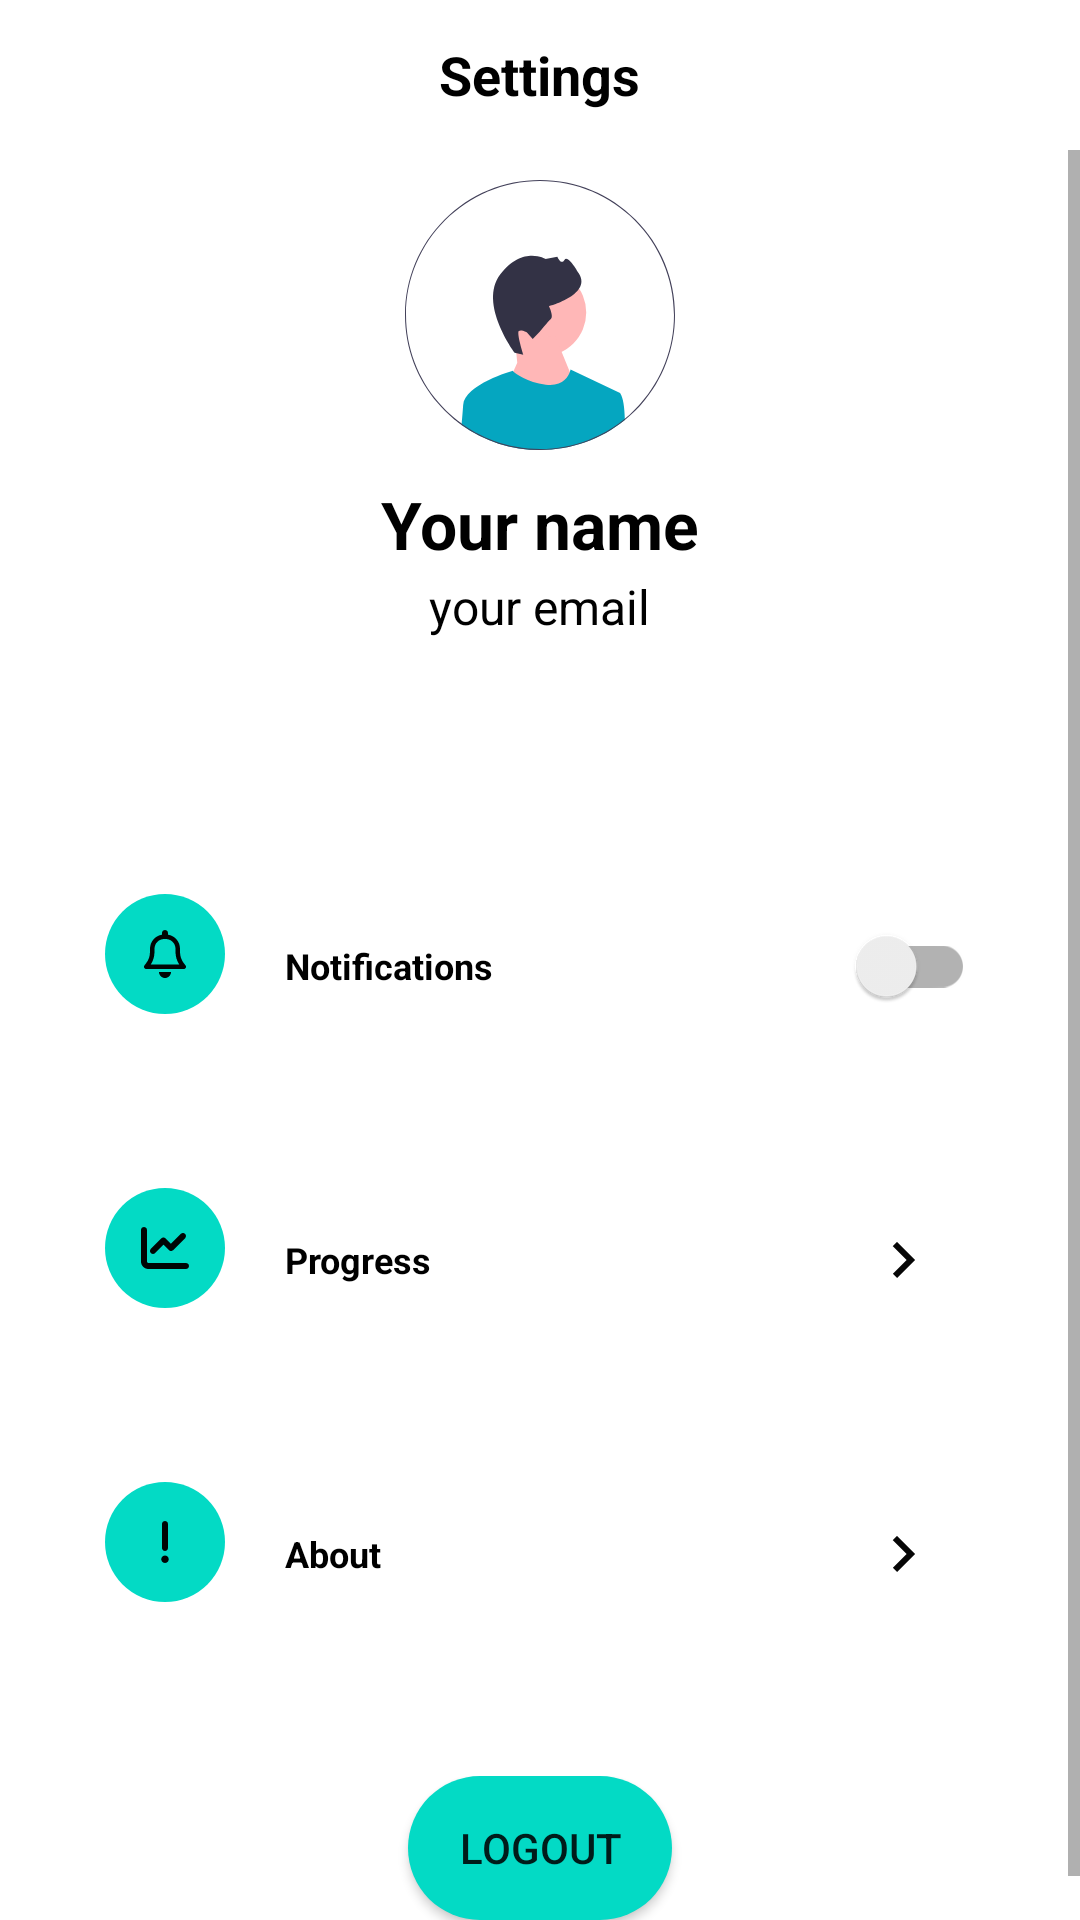

Icon click points for this 1080w x 1920h phone screenshot, format (x,y):
arrow right: (904,1260), (904,1554)
bell: (165,954)
chart line: (165,1248)
exclamation: (165,1542)
